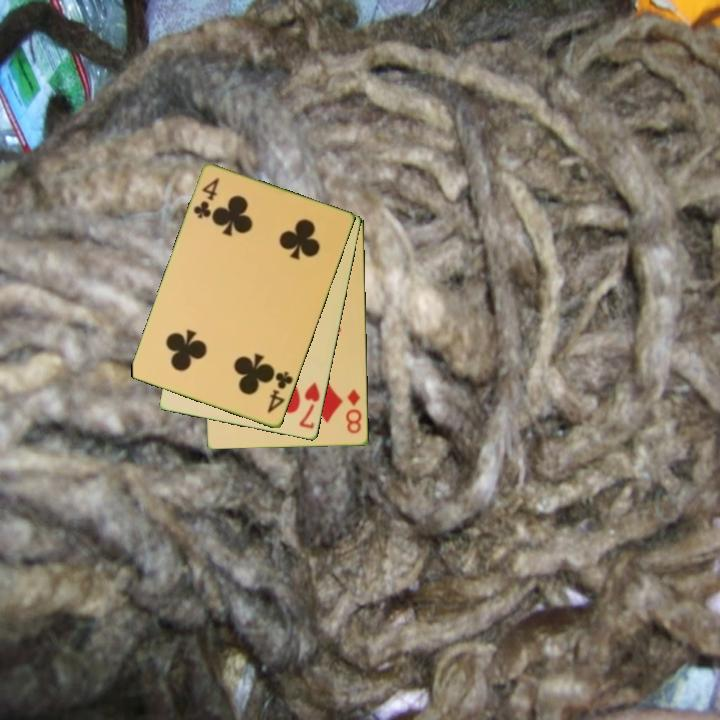4c: (264, 368, 296, 416), (190, 175, 222, 222)
7h: (296, 379, 323, 432)
8d: (343, 386, 365, 436)
